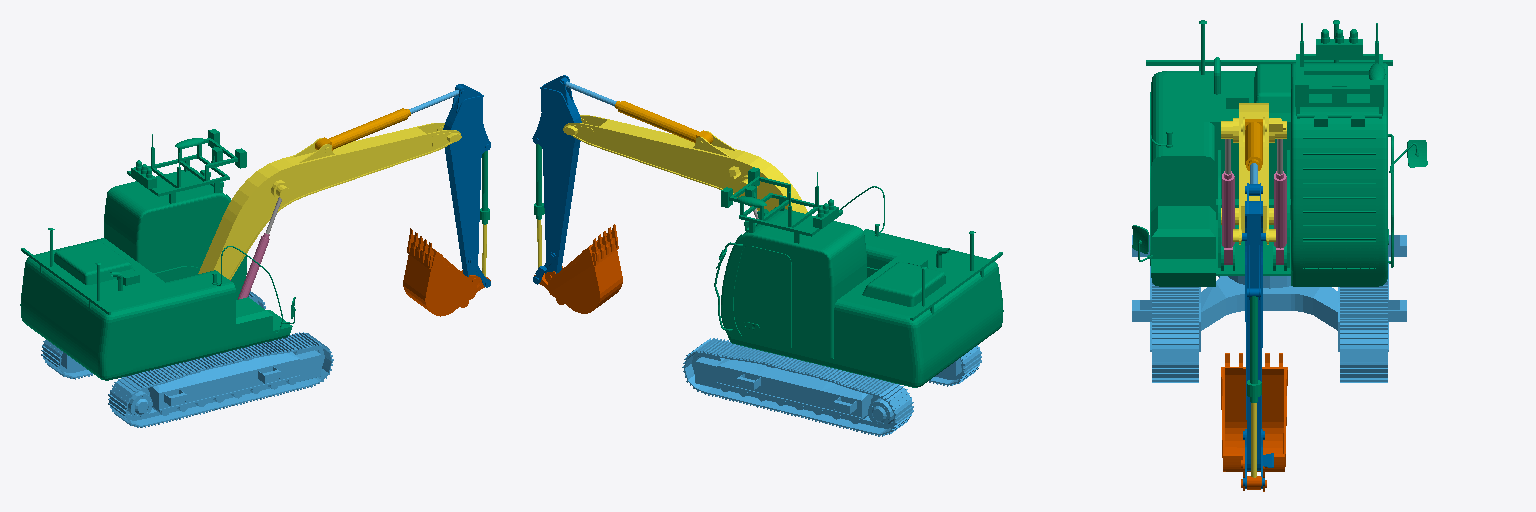
URDF robot description (zx120):
<?xml version="1.0" encoding="utf-8"?>
<!-- =================================================================================== -->
<!-- |    This document was autogenerated by xacro from zx120.xacro                    | -->
<!-- |    EDITING THIS FILE BY HAND IS NOT RECOMMENDED                                 | -->
<!-- =================================================================================== -->
<robot name="zx120">
  <!--material name="black">
		<color rgba="0.0 0.0 0.0 1.0"/>
	</material>

	<material name="blue">
		<color rgba="0.0 0.0 0.8 1.0"/>
	</material>

	<material name="green">
		<color rgba="0.0 0.8 0.0 1.0"/>
	</material>

	<material name="grey">
		<color rgba="0.2 0.2 0.2 1.0"/>
	</material>

	<material name="orange">
		<color rgba="${255/255} ${108/255} ${10/255} 1.0"/>
	</material>

	<material name="brown">
		<color rgba="${222/255} ${207/255} ${195/255} 1.0"/>
	</material>

	<material name="red">
		<color rgba="0.8 0.0 0.0 1.0"/>
	</material>

	<material name="white">
		<color rgba="1.0 1.0 1.0 1.0"/>
	</material>

	<material name="model01color">
		<color rgba="0.0 1.0 1.0 0.7"/>
	</material-->
  <!-- Used for fixing robot to Gazebo 'base_link' -->
  <link name="world"/>
  <joint name="fixed" type="fixed">
    <parent link="world"/>
    <child link="link1"/>
  </joint>
  <!-- Base Link -->
  <link name="link1">
    <visual>
      <geometry>
        <mesh filename="package://meshes/zx120-crawler.dae"/>
      </geometry>
    </visual>
    <collision>
      <geometry>
        <mesh filename="package://meshes/zx120-crawler.dae"/>
      </geometry>
    </collision>
    <inertial>
      <origin rpy="0 0 0" xyz="-0.155869 0 0.358402"/>
      <mass value="0.03"/>
      <inertia ixx="1.0" ixy="0.0" ixz="0.0" iyy="1.0" iyz="0.0" izz="1.0"/>
    </inertial>
  </link>
  <!-- body axis -->
  <joint name="joint1" type="continuous">
    <origin xyz="0 0 1"/>
    <axis xyz="0 0 2"/>
    <parent link="link1"/>
    <child link="link2"/>
  </joint>
  <link name="link2">
    <visual>
      <origin xyz="0 0 0"/>
      <geometry>
        <mesh filename="package://meshes/zx120-body.dae"/>
      </geometry>
    </visual>
    <collision>
      <origin xyz="0 0 0"/>
      <geometry>
        <mesh filename="package://meshes/zx120-body.dae"/>
      </geometry>
    </collision>
    <inertial>
      <origin rpy="0 0 0" xyz="-0.501522 0 1.191169"/>
      <mass value="0.03"/>
      <inertia ixx="1.0" ixy="0.0" ixz="0.0" iyy="1.0" iyz="0.0" izz="1.0"/>
    </inertial>
  </link>
  <!-- boom axis -->
  <joint name="joint2" type="revolute">
    <origin xyz="0.15433 -0.16443 0.31327"/>
    <axis xyz="0 1 0"/>
    <parent link="link2"/>
    <child link="link3"/>
    <limit effort="500" lower="-1.2217304764" upper="0.523598775598" velocity="6.159937255"/>
  </joint>
  <joint name="joint5" type="continuous">
    <origin xyz="0.556105 -0.164428 0.032962"/>
    <axis xyz="0 1 0"/>
    <parent link="link2"/>
    <child link="link6"/>
    <mimic joint="joint2" multiplier="0.857142857143"/>
  </joint>
  <gazebo>
    <plugin filename="libroboticsgroup_upatras_gazebo_mimic_joint_plugin.so" name="joint5_mimic_joint_plugin">
      <joint>joint2</joint>
      <mimicJoint>joint5</mimicJoint>
      <multiplier>0.857142857143</multiplier>
      <offset>0</offset>
      <robotNamespace>/zx120</robotNamespace>
    </plugin>
  </gazebo>
  <joint name="joint6" type="prismatic">
    <origin xyz="0 0 0"/>
    <axis xyz="0.802033 0 1.847495"/>
    <parent link="link6"/>
    <child link="link7"/>
    <limit effort="500" lower="-2" upper="2" velocity="6.159937255"/>
    <mimic joint="joint2" multiplier="-0.319672131148"/>
  </joint>
  <gazebo>
    <plugin filename="libroboticsgroup_upatras_gazebo_mimic_joint_plugin.so" name="joint6_mimic_joint_plugin">
      <joint>joint2</joint>
      <mimicJoint>joint6</mimicJoint>
      <multiplier>-0.319672131148</multiplier>
      <offset>0</offset>
      <robotNamespace>/zx120</robotNamespace>
    </plugin>
  </gazebo>
  <joint name="joint7" type="fixed">
    <origin xyz="2.053030 0 1.991444"  rpy="0 -0.156207 0"/>
    <axis xyz="0 1 0"/>
    <parent link="link3"/>
    <child link="link8"/>
  </joint>
  <joint name="joint8" type="prismatic">
    <origin xyz="0 0 0"/>
    <axis xyz="2.36471 0 0"/>
    <parent link="link8"/>
    <child link="link9"/>
    <limit effort="500" lower="-2" upper="2" velocity="6.159937255"/>
    <mimic joint="joint3" multiplier="0.458366236105"/>
  </joint>
  <gazebo>
    <plugin filename="libroboticsgroup_upatras_gazebo_mimic_joint_plugin.so" name="joint8_mimic_joint_plugin">
      <joint>joint3</joint>
      <mimicJoint>joint8</mimicJoint>
      <multiplier>0.458366236105</multiplier>
      <offset>0</offset>
      <robotNamespace>/zx120</robotNamespace>
    </plugin>
  </gazebo>
  <joint name="joint9" type="fixed">
    <origin xyz="0.605825 0 -0.364793"/>
    <axis xyz="0 1 0"/>
    <parent link="link4"/>
    <child link="link10"/>
  </joint>
  <joint name="joint10" type="prismatic">
    <origin xyz="0 0 0"/>
    <axis xyz="-0.021529 0 -2.207579"/>
    <parent link="link10"/>
    <child link="link11"/>
    <limit effort="500" lower="-2" upper="2" velocity="6.159937255"/>
    <mimic joint="joint4" multiplier="0.322580645161"/>
  </joint>
  <gazebo>
    <plugin filename="libroboticsgroup_upatras_gazebo_mimic_joint_plugin.so" name="joint10_mimic_joint_plugin">
      <joint>joint4</joint>
      <mimicJoint>joint10</mimicJoint>
      <multiplier>0.322580645161</multiplier>
      <offset>0</offset>
      <robotNamespace>/zx120</robotNamespace>
    </plugin>
  </gazebo>
  <joint name="joint11" type="continuous">
    <origin xyz="0.330489 0 -2.150643"/>
    <axis xyz="0 1 0"/>
    <parent link="link4"/>
    <child link="link12"/>
    <mimic joint="joint4" multiplier="0.75"/>
  </joint>
  <gazebo>
    <plugin filename="libroboticsgroup_upatras_gazebo_mimic_joint_plugin.so" name="joint11_mimic_joint_plugin">
      <joint>joint4</joint>
      <mimicJoint>joint11</mimicJoint>
      <multiplier>0.75</multiplier>
      <offset>0</offset>
      <robotNamespace>/zx120</robotNamespace>
    </plugin>
  </gazebo>
  <joint name="joint12" type="continuous">
    <origin xyz="-0.182145 0 -0.315076"/>
    <axis xyz="0 1 0"/>
    <parent link="link5"/>
    <child link="link13"/>
    <mimic joint="joint4" multiplier="-0.575"/>
  </joint>
  <gazebo>
    <plugin filename="libroboticsgroup_upatras_gazebo_mimic_joint_plugin.so" name="joint12_mimic_joint_plugin">
      <joint>joint4</joint>
      <mimicJoint>joint12</mimicJoint>
      <multiplier>-0.575</multiplier>
      <offset>0</offset>
      <robotNamespace>/zx120</robotNamespace>
    </plugin>
  </gazebo>
  <link name="link3">
    <visual>
      <origin xyz="0 0 0"/>
      <geometry>
        <mesh filename="package://meshes/zx120-boom.dae"/>
      </geometry>
    </visual>
    <collision>
      <origin xyz="0 0 0"/>
      <geometry>
        <mesh filename="package://meshes/zx120-boom.dae"/>
      </geometry>
    </collision>
    <inertial>
      <origin rpy="0 0 0" xyz="2.091062 0.055029 0.975556"/>
      <mass value="0.03"/>
      <inertia ixx="1.0" ixy="0.0" ixz="0.0" iyy="1.0" iyz="0.0" izz="1.0"/>
    </inertial>
  </link>
  <joint name="joint3" type="revolute">
    <origin xyz="4.2241 0 1.7311"/>
    <axis xyz="0 1 0"/>
    <parent link="link3"/>
    <child link="link4"/>
    <limit effort="500" lower="-1.2217304764" upper="0.872664625997" velocity="6.159937255"/>
  </joint>
  <link name="link4">
    <visual>
      <origin xyz="0 0 0"/>
      <geometry>
        <mesh filename="package://meshes/zx120-arm.dae"/>
      </geometry>
    </visual>
    <collision>
      <origin xyz="0 0 0"/>
      <geometry>
        <mesh filename="package://meshes/zx120-arm.dae"/>
      </geometry>
    </collision>
    <inertial>
      <origin rpy="0 0 0" xyz="0.305996 0.000026 -0.912806"/>
      <mass value="0.03"/>
      <inertia ixx="1.0" ixy="0.0" ixz="0.0" iyy="1.0" iyz="0.0" izz="1.0"/>
    </inertial>
  </link>
  <!-- bucket axis -->
  <joint name="joint4" type="revolute">
    <origin xyz="0.35383 0 -2.4712"/>
    <axis xyz="0 1 0"/>
    <parent link="link4"/>
    <child link="link5"/>
    <limit effort="500" lower="-2.79252680319" upper="0" velocity="6.159937255"/>
  </joint>
  <link name="link5">
    <visual>
      <origin xyz="0 0 0"/>
      <geometry>
        <mesh filename="package://meshes/zx120-bucket.dae"/>
      </geometry>
    </visual>
    <collision>
      <origin xyz="0 0 0"/>
      <geometry>
        <mesh filename="package://meshes/zx120-bucket.dae"/>
      </geometry>
    </collision>
    <inertial>
      <origin rpy="0 0 0" xyz="-0.442405 0.001740 0.247894"/>
      <mass value="0.03"/>
      <inertia ixx="1.0" ixy="0.0" ixz="0.0" iyy="1.0" iyz="0.0" izz="1.0"/>
    </inertial>
  </link>
  <link name="link6">
    <visual>
      <origin xyz="0 0 0"/>
      <geometry>
        <mesh filename="package://meshes/zx120-boom-cyl1.dae"/>
      </geometry>
    </visual>
    <collision>
      <origin xyz="0 0 0"/>
      <geometry>
        <mesh filename="package://meshes/zx120-boom-cyl1.dae"/>
      </geometry>
    </collision>
    <inertial>
      <origin rpy="0 0 0" xyz="0.241225 0.000050 0.577034"/>
      <mass value="0.03"/>
      <inertia ixx="1.0" ixy="0.0" ixz="0.0" iyy="1.0" iyz="0.0" izz="1.0"/>
    </inertial>
  </link>
  <link name="link7">
    <visual>
      <origin xyz="0 0 0"/>
      <geometry>
        <mesh filename="package://meshes/zx120-boom-cyl2.dae"/>
      </geometry>
    </visual>
    <collision>
      <origin xyz="0 0 0"/>
      <geometry>
        <mesh filename="package://meshes/zx120-boom-cyl2.dae"/>
      </geometry>
    </collision>
    <inertial>
      <origin rpy="0 0 0" xyz="0.558044 0.000050 1.286359"/>
      <mass value="0.03"/>
      <inertia ixx="1.0" ixy="0.0" ixz="0.0" iyy="1.0" iyz="0.0" izz="1.0"/>
    </inertial>
  </link>
  <link name="link8">
    <visual>
      <origin xyz="0 0 0"/>
      <geometry>
        <mesh filename="package://meshes/zx120-arm-cyl1.dae"/>
      </geometry>
    </visual>
    <collision>
      <origin xyz="0 0 0"/>
      <geometry>
        <mesh filename="package://meshes/zx120-arm-cyl1.dae"/>
      </geometry>
    </collision>
    <inertial>
      <origin rpy="0 0 0" xyz="0.696672 0.000026 -0.000065"/>
      <mass value="0.03"/>
      <inertia ixx="1.0" ixy="0.0" ixz="0.0" iyy="1.0" iyz="0.0" izz="1.0"/>
    </inertial>
  </link>
  <link name="link9">
    <visual>
      <origin xyz="0 0 0"/>
      <geometry>
        <mesh filename="package://meshes/zx120-arm-cyl2.dae"/>
      </geometry>
    </visual>
    <collision>
      <origin xyz="0 0 0"/>
      <geometry>
        <mesh filename="package://meshes/zx120-arm-cyl2.dae"/>
      </geometry>
    </collision>
    <inertial>
      <origin rpy="0 0 0" xyz="1.686736 -0.001027 -0.000662"/>
      <mass value="0.03"/>
      <inertia ixx="1.0" ixy="0.0" ixz="0.0" iyy="1.0" iyz="0.0" izz="1.0"/>
    </inertial>
  </link>
  <link name="link10">
    <visual>
      <origin xyz="0 0 0"/>
      <geometry>
        <mesh filename="package://meshes/zx120-bucket-cyl1.dae"/>
      </geometry>
    </visual>
    <collision>
      <origin xyz="0 0 0"/>
      <geometry>
        <mesh filename="package://meshes/zx120-bucket-cyl1.dae"/>
      </geometry>
    </collision>
    <inertial>
      <origin rpy="0 0 0" xyz="-0.010342 0.000321 -0.639293"/>
      <mass value="0.03"/>
      <inertia ixx="1.0" ixy="0.0" ixz="0.0" iyy="1.0" iyz="0.0" izz="1.0"/>
    </inertial>
  </link>
  <link name="link11">
    <visual>
      <origin xyz="0 0 0"/>
      <geometry>
        <mesh filename="package://meshes/zx120-bucket-cyl2.dae"/>
      </geometry>
    </visual>
    <collision>
      <origin xyz="0 0 0"/>
      <geometry>
        <mesh filename="package://meshes/zx120-bucket-cyl2.dae"/>
      </geometry>
    </collision>
    <inertial>
      <origin rpy="0 0 0" xyz="-0.015456 0.000321 -1.701647"/>
      <mass value="0.03"/>
      <inertia ixx="1.0" ixy="0.0" ixz="0.0" iyy="1.0" iyz="0.0" izz="1.0"/>
    </inertial>
  </link>
  <link name="link12">
    <visual>
      <origin xyz="0 0 0"/>
      <geometry>
        <mesh filename="package://meshes/zx120-p1.dae"/>
      </geometry>
    </visual>
    <collision>
      <origin xyz="0 0 0"/>
      <geometry>
        <mesh filename="package://meshes/zx120-p1.dae"/>
      </geometry>
    </collision>
    <inertial>
      <origin rpy="0 0 0" xyz="0.126203 0.000026 -0.212651"/>
      <mass value="0.03"/>
      <inertia ixx="1.0" ixy="0.0" ixz="0.0" iyy="1.0" iyz="0.0" izz="1.0"/>
    </inertial>
  </link>
  <link name="link13">
    <visual>
      <origin xyz="0 0 0"/>
      <geometry>
        <mesh filename="package://meshes/zx120-p2.dae"/>
      </geometry>
    </visual>
    <collision>
      <origin xyz="0 0 0"/>
      <geometry>
        <mesh filename="package://meshes/zx120-p2.dae"/>
      </geometry>
    </collision>
    <inertial>
      <origin rpy="0 0 0" xyz="0.211197 0.000576 0.111406"/>
      <mass value="0.03"/>
      <inertia ixx="1.0" ixy="0.0" ixz="0.0" iyy="1.0" iyz="0.0" izz="1.0"/>
    </inertial>
  </link>
  <transmission name="tran1">
    <type>transmission_interface/SimpleTransmission</type>
    <joint name="joint1">
      <hardwareInterface>hardware_interface/EffortJointInterface</hardwareInterface>
    </joint>
    <actuator name="motor1">
      <hardwareInterface>hardware_interface/EffortJointInterface</hardwareInterface>
      <mechanicalReduction>1</mechanicalReduction>
    </actuator>
  </transmission>
  <transmission name="tran2">
    <type>transmission_interface/SimpleTransmission</type>
    <joint name="joint2">
      <hardwareInterface>hardware_interface/EffortJointInterface</hardwareInterface>
    </joint>
    <actuator name="motor2">
      <hardwareInterface>hardware_interface/EffortJointInterface</hardwareInterface>
      <mechanicalReduction>1</mechanicalReduction>
    </actuator>
  </transmission>
  <transmission name="tran3">
    <type>transmission_interface/SimpleTransmission</type>
    <joint name="joint3">
      <hardwareInterface>hardware_interface/EffortJointInterface</hardwareInterface>
    </joint>
    <actuator name="motor3">
      <hardwareInterface>hardware_interface/EffortJointInterface</hardwareInterface>
      <mechanicalReduction>1</mechanicalReduction>
    </actuator>
  </transmission>
  <transmission name="tran4">
    <type>transmission_interface/SimpleTransmission</type>
    <joint name="joint4">
      <hardwareInterface>hardware_interface/EffortJointInterface</hardwareInterface>
    </joint>
    <actuator name="motor4">
      <hardwareInterface>hardware_interface/EffortJointInterface</hardwareInterface>
      <mechanicalReduction>1</mechanicalReduction>
    </actuator>
  </transmission>
</robot>

--- What the picture shows (computed from the rendered views, not written in the file) ---
The picture shows the robot from 3 angles, left to right: view 1: azimuth 30°, elevation 25°; view 2: azimuth 150°, elevation 25°; view 3: azimuth 270°, elevation 25°; orthographic projection.
Robot: zx120 — 14 links, 13 joints (3 revolute, 4 continuous, 3 prismatic, 3 fixed); root link world; default pose: every joint at zero.
Visible links, largest first — view 1: link2, link1, link3, link4, link5, link8, link6; view 2: link2, link1, link3, link4, link5, link8; view 3: link2, link1, link5, link4, link3, link6, link10, link8.
Link boxes in pixels (x1,y1,x2,y2): link2: [20, 129, 295, 380]; link1: [41, 291, 333, 427]; link3: [198, 123, 461, 279]; link4: [443, 84, 490, 276]; link5: [403, 228, 479, 316]; link8: [315, 108, 410, 150]; link6: [230, 233, 269, 299]; link2: [714, 167, 1003, 387]; link1: [682, 338, 981, 436]; link3: [563, 115, 807, 213]; link4: [532, 75, 581, 273]; link5: [545, 224, 622, 313]; link8: [615, 101, 713, 143]; link2: [1132, 20, 1427, 286]; link1: [1132, 235, 1406, 382]; link5: [1221, 353, 1287, 491]; link4: [1242, 183, 1265, 470]; link3: [1221, 103, 1286, 244]; link6: [1222, 171, 1286, 264]; link10: [1247, 296, 1261, 402]; link8: [1245, 119, 1262, 170].
Bounding box of the posed robot: 7.26 × 3.11 × 3.76 m (x, y, z).
13 mesh visuals loaded from 13 distinct referenced files (13 Collada DAE).